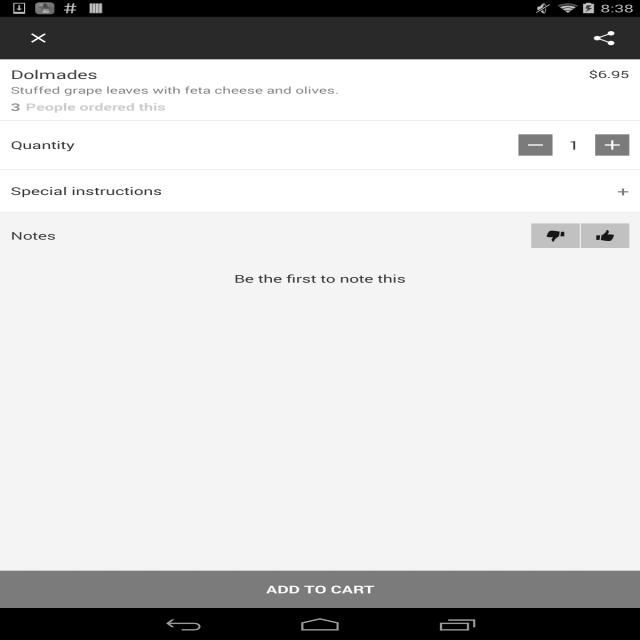Button: (0, 571, 640, 608), (531, 223, 580, 248), (581, 223, 629, 248)
ImageButton: (9, 17, 68, 59)
ImageView: (518, 134, 552, 156), (596, 134, 630, 156), (85, 38, 86, 38)
TextView: (11, 66, 578, 82), (26, 100, 629, 114), (11, 138, 518, 152), (0, 82, 349, 96), (234, 271, 406, 286), (11, 184, 162, 198), (580, 22, 632, 54), (11, 228, 56, 243), (589, 66, 629, 81), (558, 137, 590, 153), (617, 182, 629, 200), (11, 100, 20, 114)
